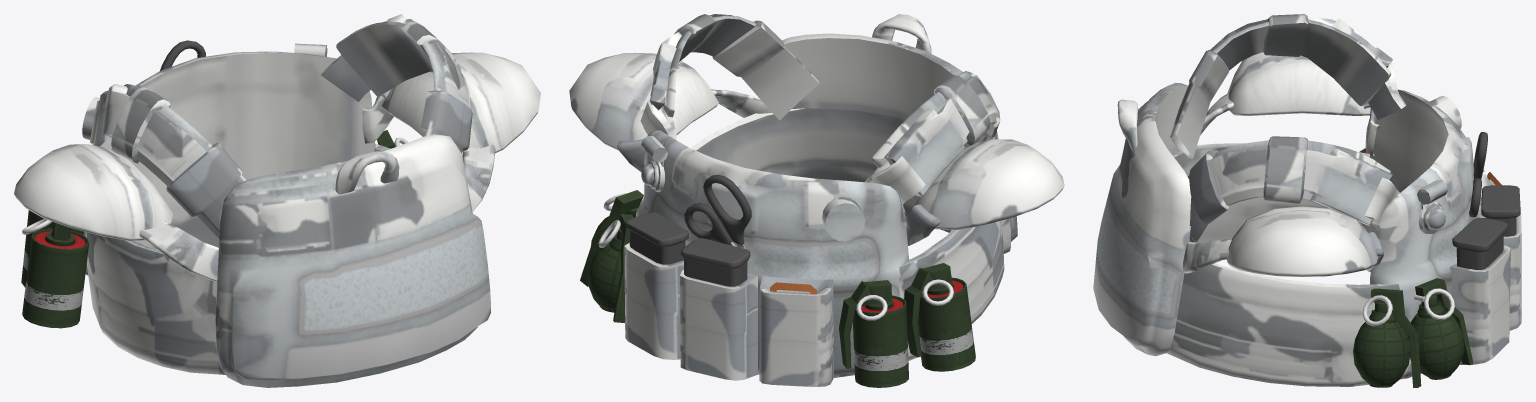
File: IG_Armor_Lv4-2_Snow.fbx
3 renders of one model, left to right at view 1: azimuth 30°, elevation 25°; view 2: azimuth 150°, elevation 25°; view 3: azimuth 270°, elevation 25°, orthographic. The views are drawn at different scales.
Visible parts, largest first — view 1: Clothes_LV5_3_Snow; view 2: Clothes_LV5_3_Snow; view 3: Clothes_LV5_3_Snow.
Part boxes in pixels (x1,y1,x2,y2): Clothes_LV5_3_Snow: [14, 14, 540, 387]; Clothes_LV5_3_Snow: [569, 14, 1064, 387]; Clothes_LV5_3_Snow: [1093, 14, 1521, 387].
Bounding box in the file's own units: 0.9341 × 0.4881 × 0.7309.
